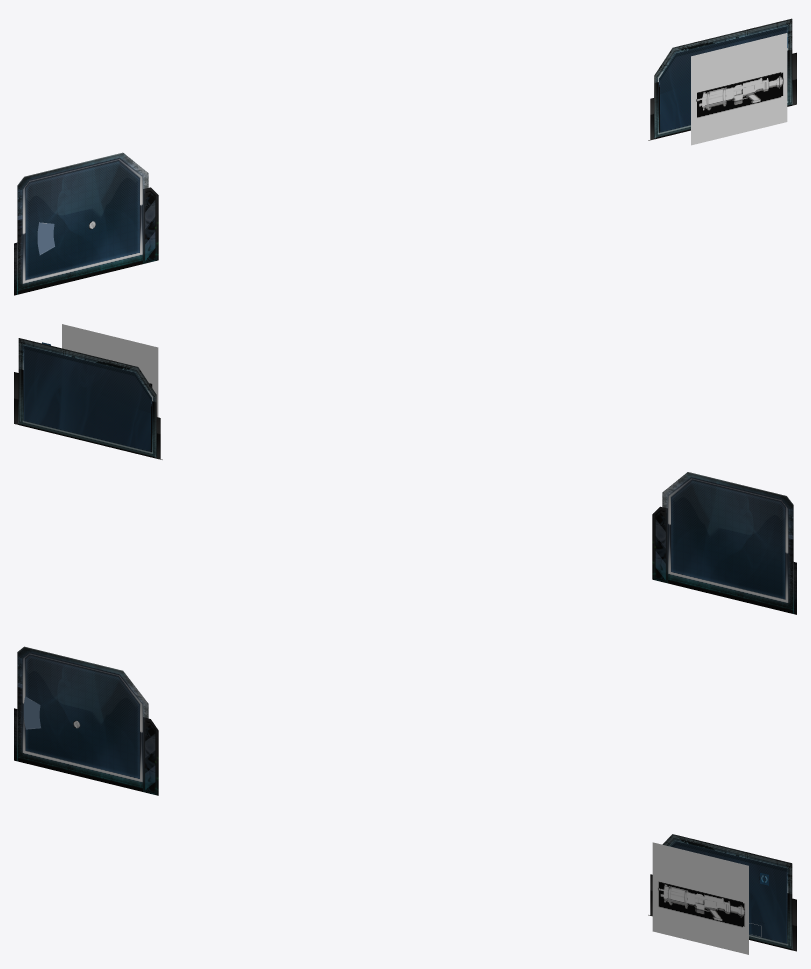
3 views of the same model, one above another, from view 1: azimuth 30°, elevation 25°; view 2: azimuth 150°, elevation 25°; view 3: azimuth 330°, elevation 25° (orthographic).
Parts seen in each view (by area): view 1: UI_Left, Icon_weapon_pulse, UI_Right; view 2: UI_Left, UI_Right, Icon_weapon_pulse; view 3: UI_Left, Icon_weapon_pulse, UI_Right.
Boxes of the visible parts, bbox=[...] form: UI_Left: bbox=[14, 152, 158, 295]; Icon_weapon_pulse: bbox=[691, 33, 787, 145]; UI_Right: bbox=[648, 18, 796, 140]; UI_Left: bbox=[652, 472, 796, 614]; UI_Right: bbox=[14, 338, 162, 459]; Icon_weapon_pulse: bbox=[62, 324, 158, 417]; UI_Left: bbox=[14, 646, 158, 795]; Icon_weapon_pulse: bbox=[652, 842, 748, 954]; UI_Right: bbox=[648, 834, 796, 951].
Bounding box in the file's own units: 106 × 15.17 × 4.49.
